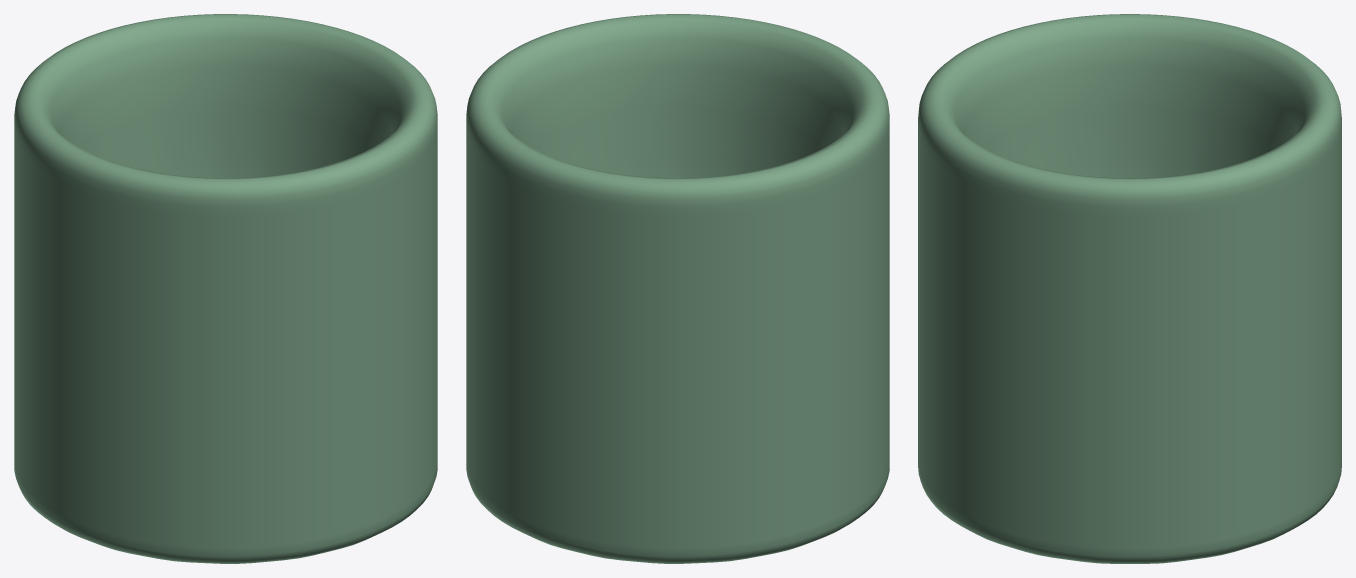
Rendered from PencilCase.fbx.
3 renders of one model, left to right at view 1: azimuth 30°, elevation 25°; view 2: azimuth 150°, elevation 25°; view 3: azimuth 270°, elevation 25°, orthographic.
Visible parts, largest first — view 1: pCylinder5; view 2: pCylinder5; view 3: pCylinder5.
Part boxes in pixels (bbox=[...]): pCylinder5: bbox=[14, 14, 437, 563]; pCylinder5: bbox=[466, 14, 889, 563]; pCylinder5: bbox=[918, 14, 1341, 563].
Size of the model in its own units: 3.94 by 3.98 by 3.94.
